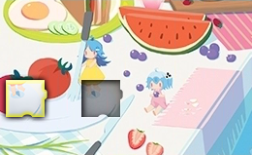gap: (81, 79, 123, 117)
